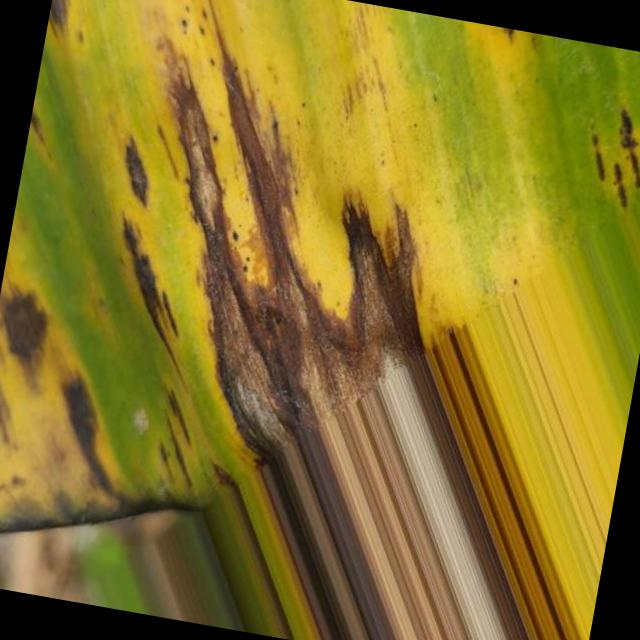Banana_Yellow_Sigatoka: (120, 49, 520, 475), (0, 243, 155, 605)
